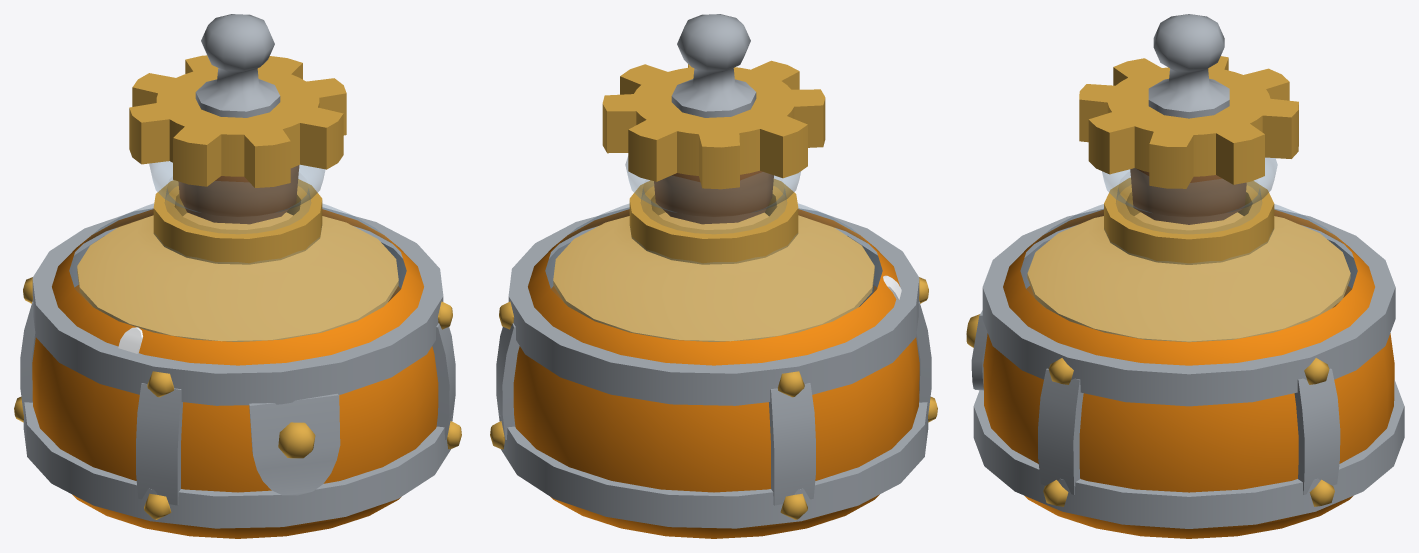
File: item_iron_tonic.glb
3 renders of one model, left to right at view 1: azimuth 30°, elevation 25°; view 2: azimuth 150°, elevation 25°; view 3: azimuth 270°, elevation 25°, orthographic.
Visible parts, largest first — view 1: IronTonic; view 2: IronTonic; view 3: IronTonic.
Boxes of the visible parts, x1=… form: IronTonic: x1=14, y1=14, x2=461, y2=538; IronTonic: x1=490, y1=14, x2=937, y2=538; IronTonic: x1=966, y1=14, x2=1404, y2=538.
Size of the model in its own units: 0.243 by 0.2821 by 0.2471.
